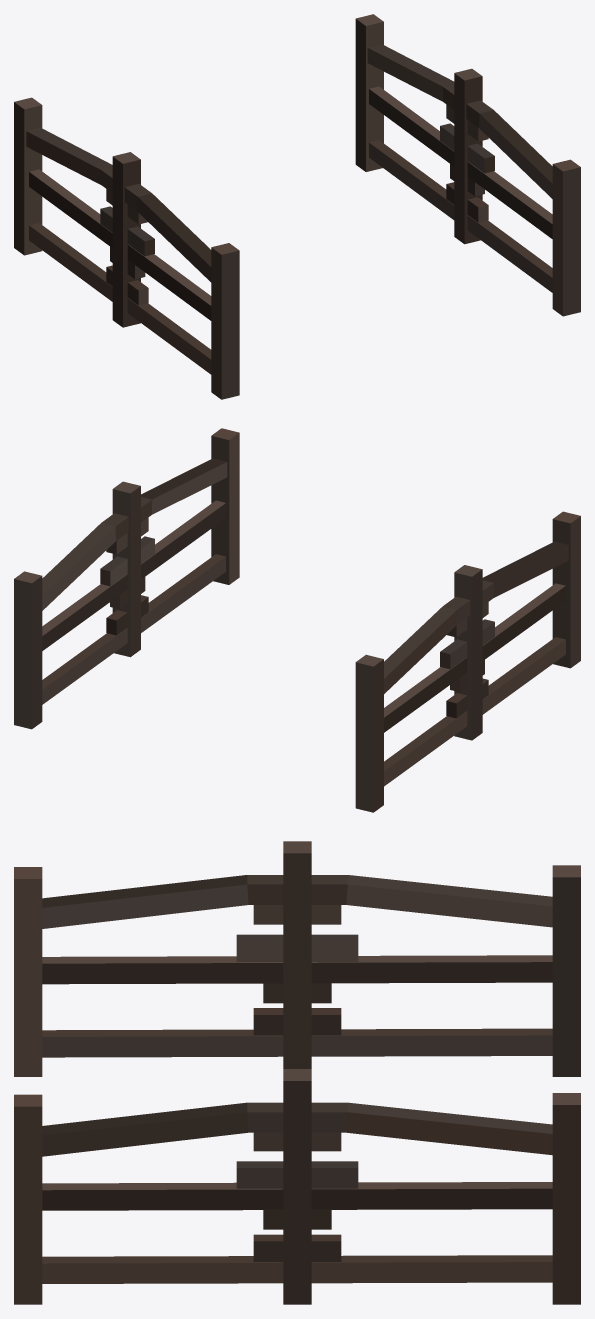
The model's file is Bridge-MidLOD1.fbx.
3 views of the same model, one above another, from view 1: azimuth 30°, elevation 25°; view 2: azimuth 150°, elevation 25°; view 3: azimuth 270°, elevation 25° (orthographic). The views are drawn at different scales.
Parts seen in each view (by area): view 1: Bridge-MidLOD1; view 2: Bridge-MidLOD1; view 3: Bridge-MidLOD1.
Boxes of the visible parts, x1,y1,x2,y2 form: Bridge-MidLOD1: [14, 14, 580, 399]; Bridge-MidLOD1: [14, 428, 580, 812]; Bridge-MidLOD1: [14, 841, 580, 1304].
Bounding box in the file's own units: 500 × 218 × 500.
